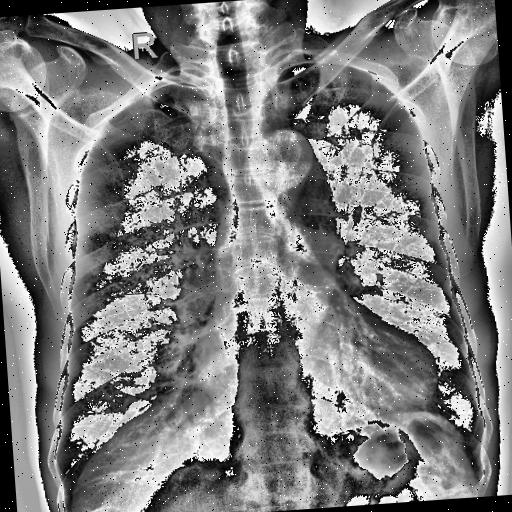0- Aortic enlargement: (193, 116, 340, 244), (214, 127, 331, 201)
3- Cardiomegaly: (163, 262, 439, 454), (182, 262, 450, 444), (191, 325, 444, 430)
5- ILD: (328, 90, 449, 408), (74, 148, 194, 413)
